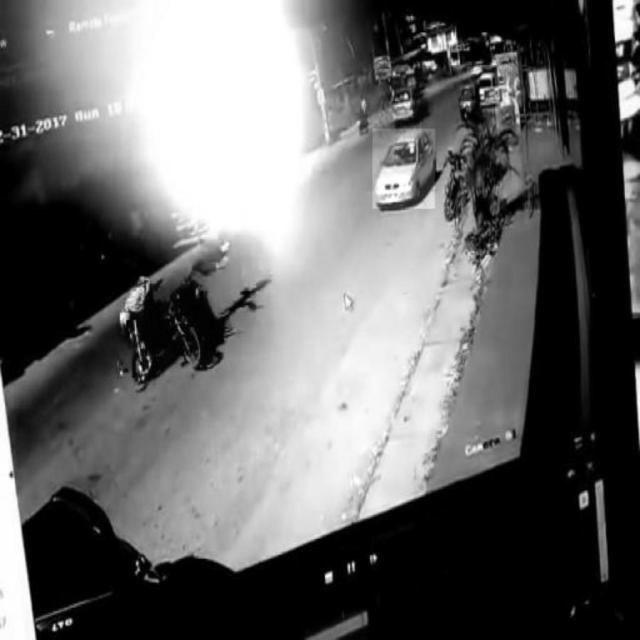vehicle: (129, 282, 222, 374), (372, 129, 436, 209)
